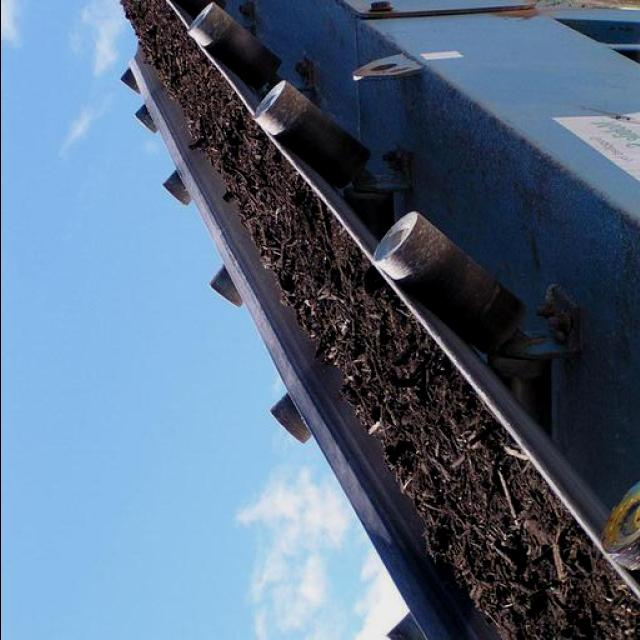conveyor: (127, 0, 640, 640)
